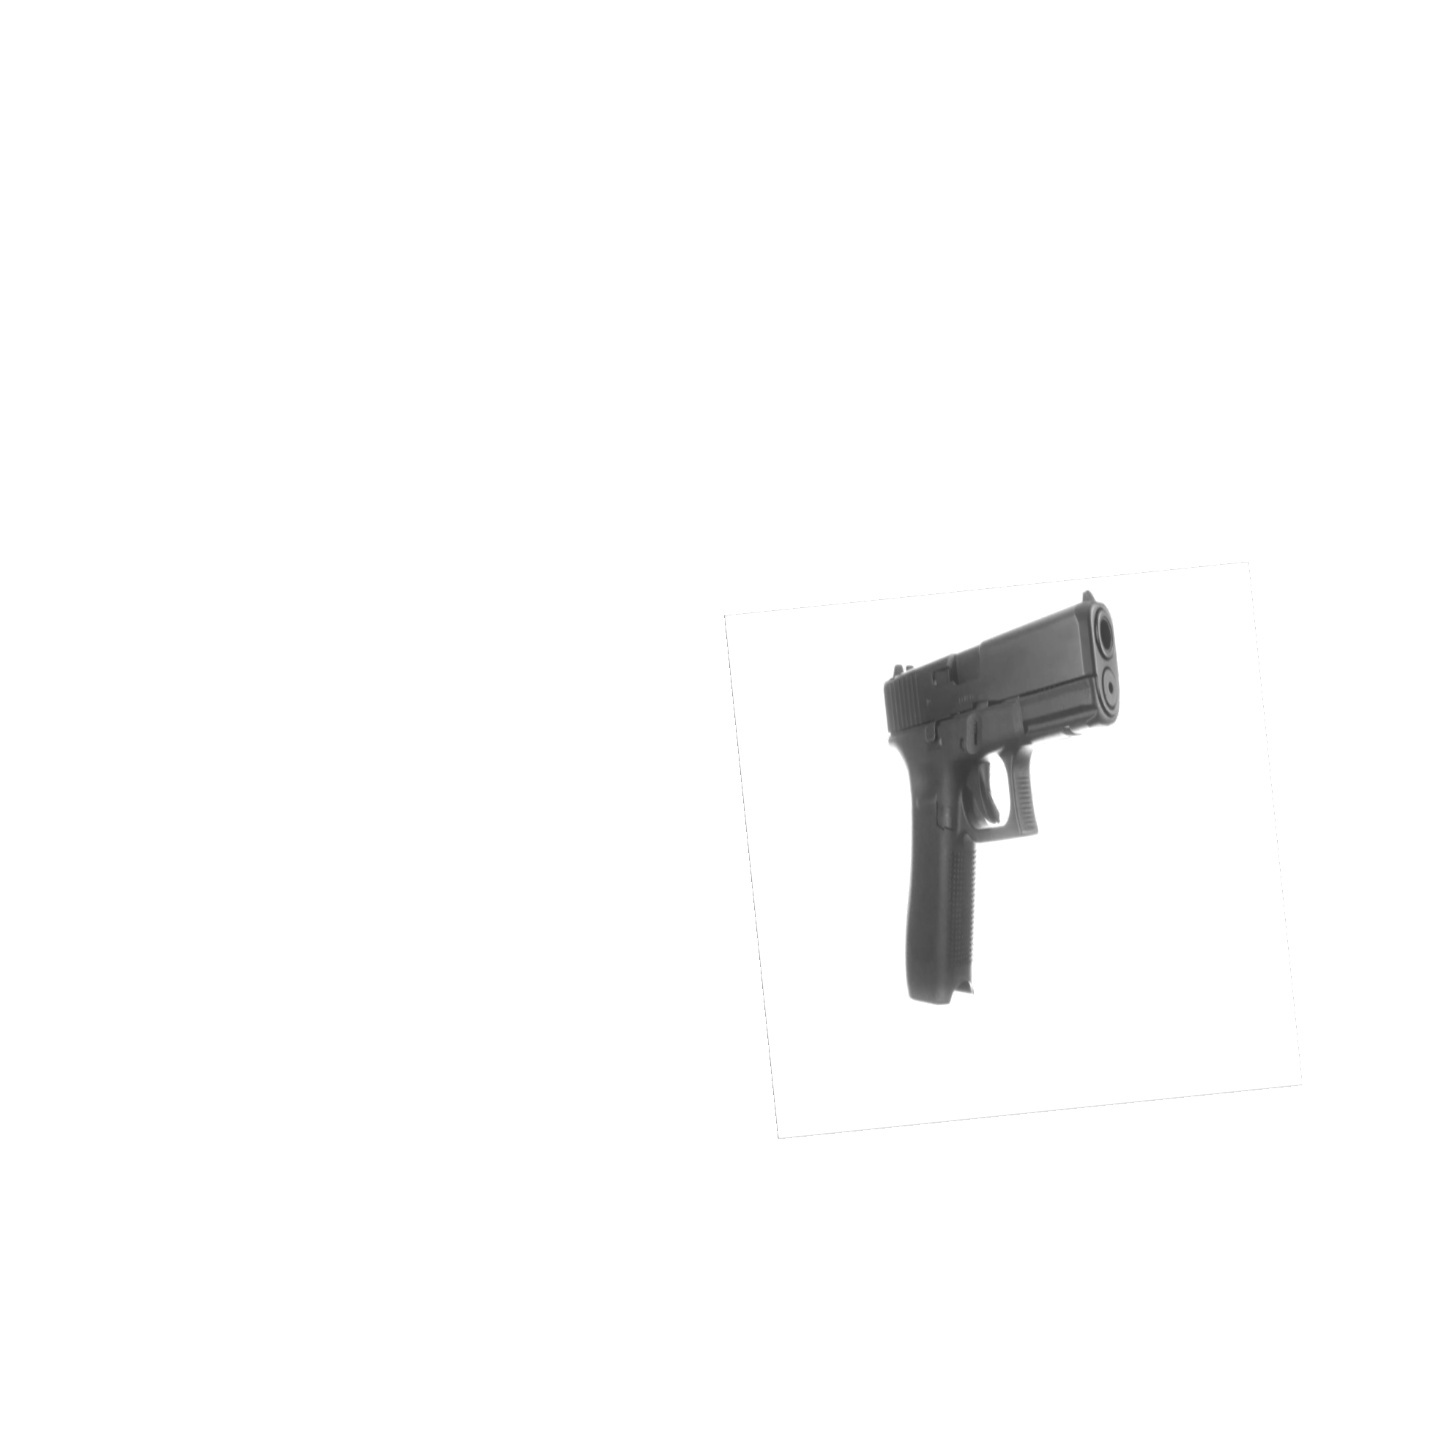gun: (882, 590, 1122, 1006)
